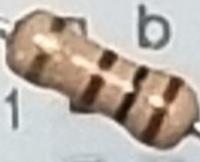Black: (111, 63, 153, 127)
Brown: (138, 73, 188, 147), (77, 45, 120, 109)
Side-Gold: (21, 15, 71, 86)
